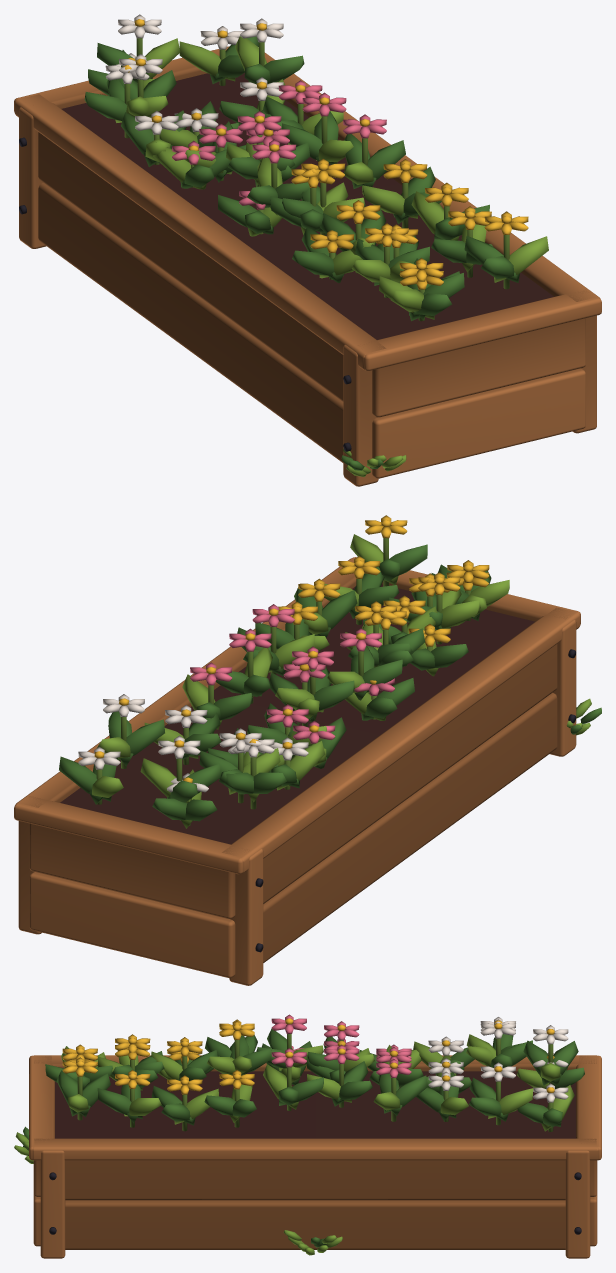
Rendered from prop.flower-bed.large.glb.
3 views of the same model, one above another, from view 1: azimuth 30°, elevation 25°; view 2: azimuth 150°, elevation 25°; view 3: azimuth 270°, elevation 25° (orthographic). The views are drawn at different scales.
Bounding box in the file's own units: 0.9794 × 0.7119 × 2.15.
